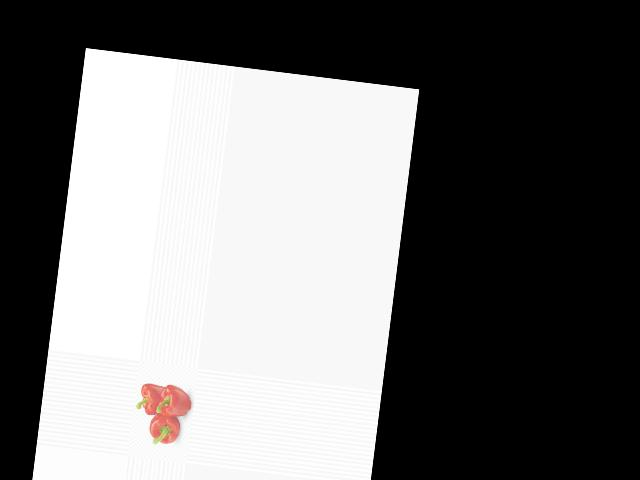bell_pepper: (143, 409, 184, 449)
